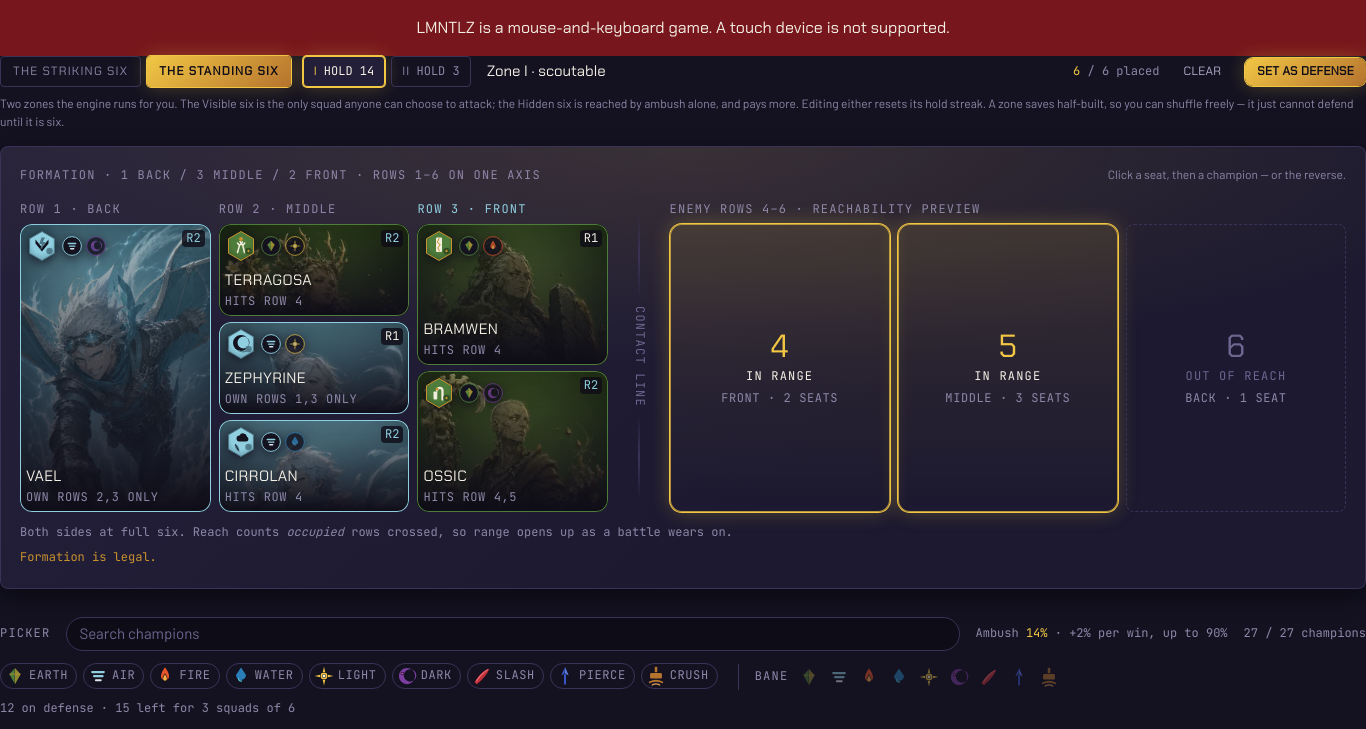
Scenario: a refused save › does not refetch, because nothing changed
This screenshot has width=1366, height=729.
Click the button with aria-label "Set as defense, Zone I" at x=1306, y=72, box [1245,58,1365,86]
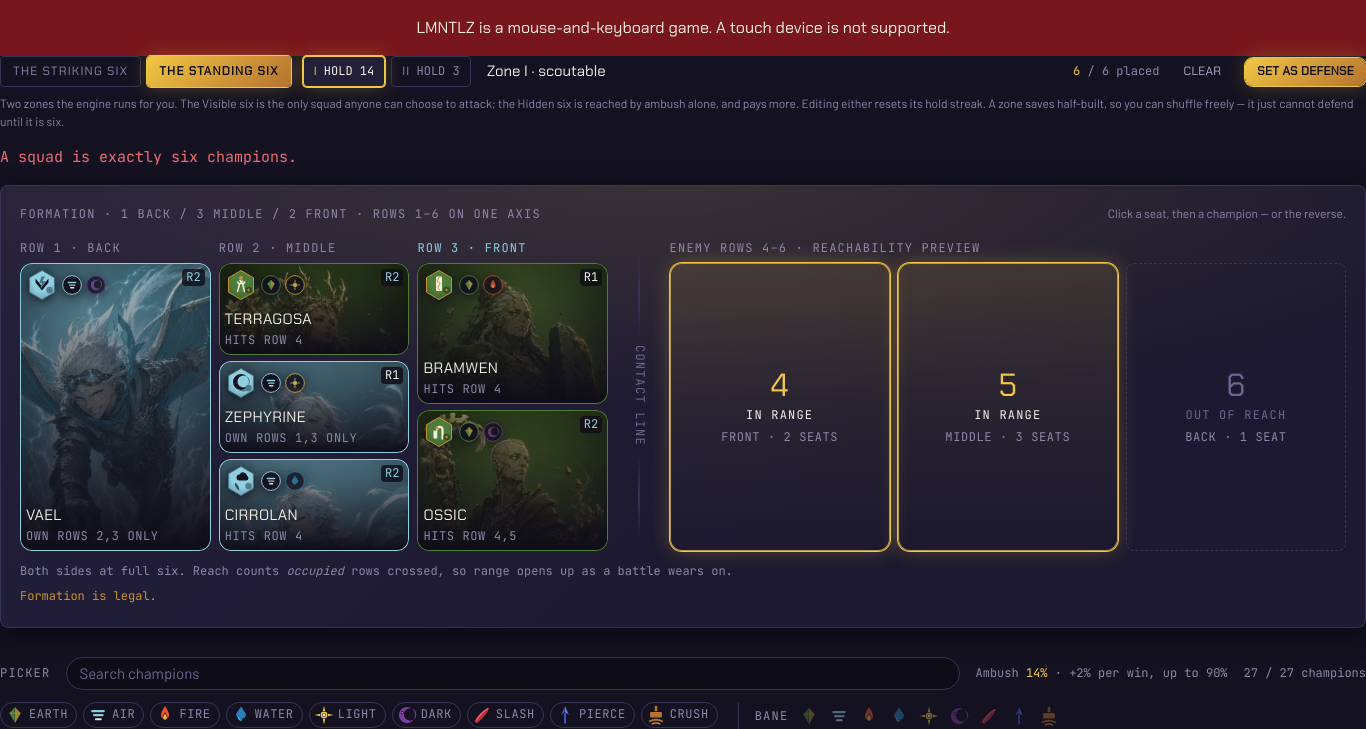
Now the message "A squad is exactly six champions." is shown, box [0,147,297,167]
